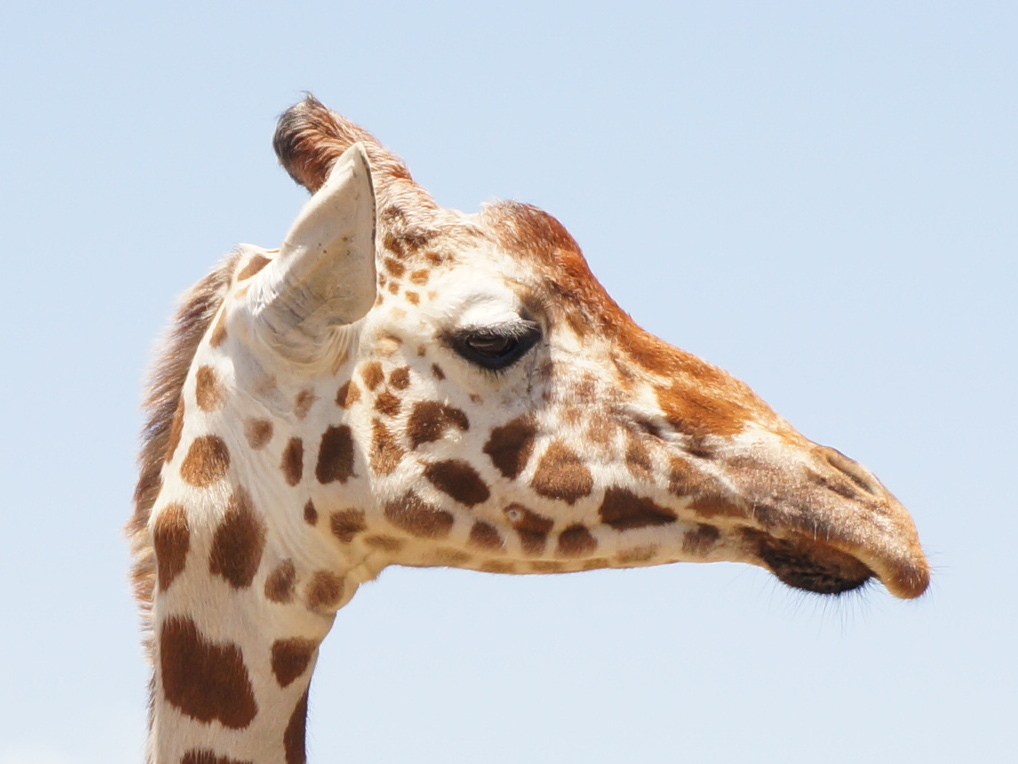giraffe: (147, 75, 936, 742)
